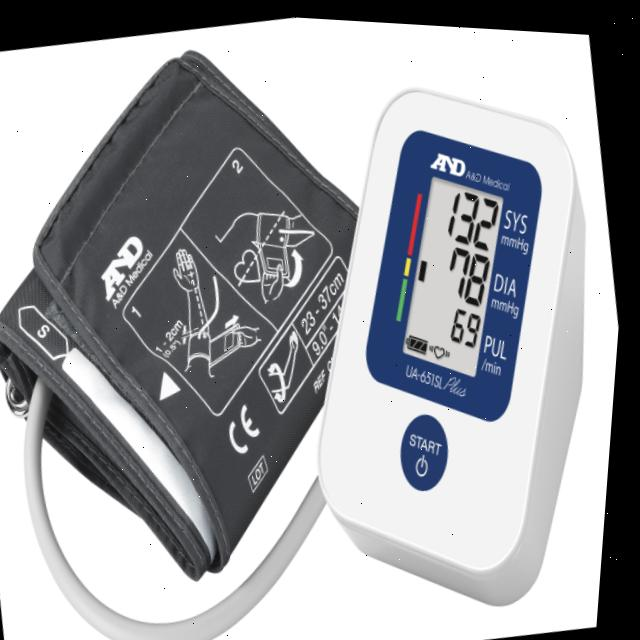dia: (427, 231, 508, 303)
pul: (442, 284, 491, 348)
ssd: (405, 170, 507, 370)
sys: (425, 172, 515, 251)
